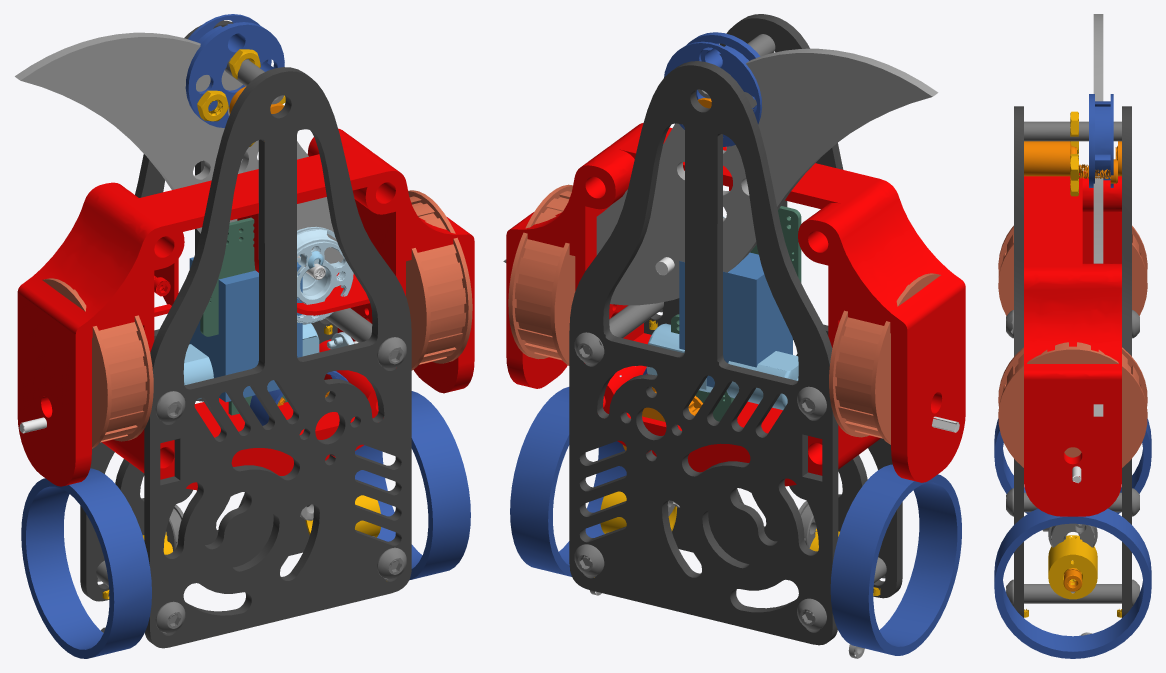
File: horizon-opt.glb
3 renders of one model, left to right at view 1: azimuth 30°, elevation 25°; view 2: azimuth 150°, elevation 25°; view 3: azimuth 270°, elevation 25°, orthographic. The views are drawn at different scales.
Parts seen in each view (by area): view 1: Top Plate, SHCS 4-40x375_HX-SHCS 0.112-40x0.375x0.375-S.IGS, Part 2, Repeat Drive Brushed (×3), Part 1 (×2), Battery, malenki-nano-integrated.step<1>, 92360A240_Thread-Locking Button Head Hex Drive Screws; view 2: Top Plate, SHCS 4-40x375_HX-SHCS 0.112-40x0.375x0.375-S.IGS, Repeat Drive Brushed (×2), Part 2, Part 1 (×2), Battery, malenki-nano-integrated.step<1>, 92360A240_Thread-Locking Button Head Hex Drive Screws; view 3: SHCS 4-40x375_HX-SHCS 0.112-40x0.375x0.375-S.IGS, Part 1 (×2), Part 2, Top Plate, 92360A240_Thread-Locking Button Head Hex Drive Screws, Spacer Bottom, Repeat Drive Brushed.
Part boxes in pixels (box(x1,y1,x2,y2)): Top Plate: box(80, 20, 411, 648); SHCS 4-40x375_HX-SHCS 0.112-40x0.375x0.375-S.IGS: box(17, 128, 474, 490); Part 2: box(21, 14, 470, 658); Repeat Drive Brushed (×3): box(15, 32, 354, 632); Part 1 (×2): box(42, 57, 472, 633); Battery: box(189, 257, 302, 402); malenki-nano-integrated.step<1>: box(200, 217, 287, 415); 92360A240_Thread-Locking Button Head Hex Drive Screws: box(102, 49, 380, 599); Top Plate: box(569, 14, 902, 645); SHCS 4-40x375_HX-SHCS 0.112-40x0.375x0.375-S.IGS: box(506, 123, 965, 486); Repeat Drive Brushed (×2): box(503, 48, 938, 658); Part 2: box(510, 32, 961, 655); Part 1 (×2): box(508, 34, 940, 630); Battery: box(679, 252, 792, 387); malenki-nano-integrated.step<1>: box(671, 206, 801, 421); 92360A240_Thread-Locking Button Head Hex Drive Screws: box(594, 319, 880, 595); SHCS 4-40x375_HX-SHCS 0.112-40x0.375x0.375-S.IGS: box(1024, 171, 1121, 516); Part 1 (×2): box(998, 121, 1147, 606); Part 2: box(994, 94, 1151, 658); Top Plate: box(1014, 106, 1131, 617); 92360A240_Thread-Locking Button Head Hex Drive Screws: box(1024, 111, 1121, 617); Spacer Bottom: box(1024, 141, 1121, 591); Repeat Drive Brushed: box(1042, 14, 1103, 635).
Bounding box in the file's own units: 4593933 × 5959979 × 1664784.
